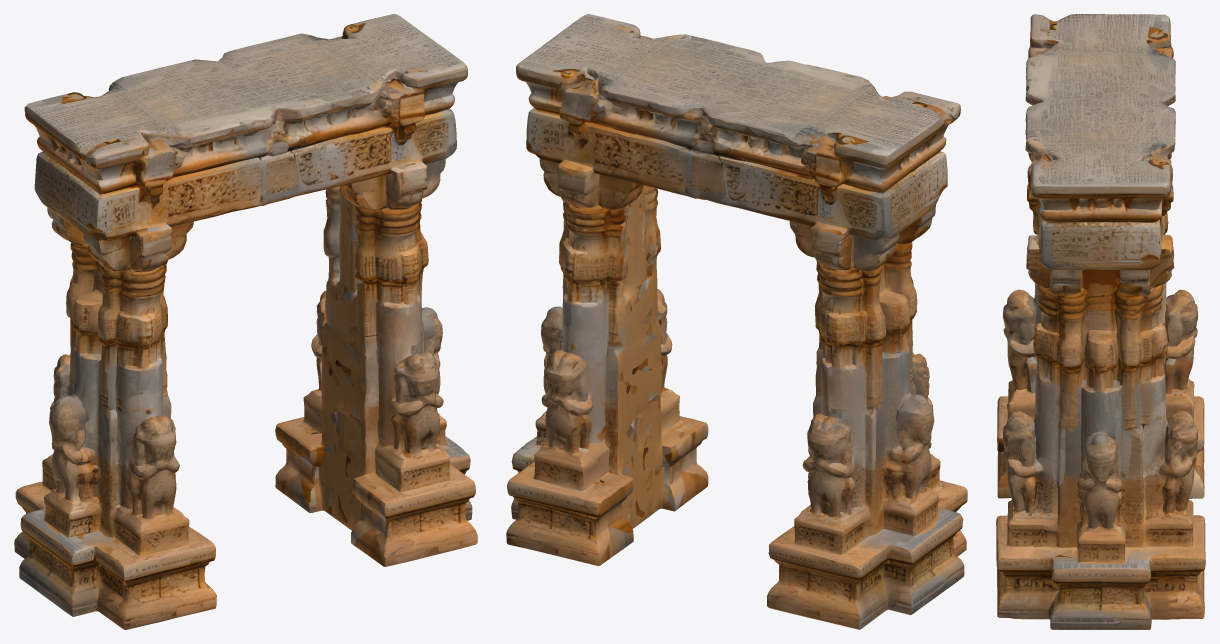
File: massive-ancient-temple-gate.glb
The picture shows the model from 3 angles, left to right: view 1: azimuth 30°, elevation 25°; view 2: azimuth 150°, elevation 25°; view 3: azimuth 270°, elevation 25°; orthographic projection. The views are drawn at different scales.
Visible parts, largest first — view 1: textured_mesh; view 2: textured_mesh; view 3: textured_mesh.
Boxes of the visible parts, box(x1,y1,x2,y2) form: textured_mesh: box(14, 14, 477, 629); textured_mesh: box(506, 14, 967, 629); textured_mesh: box(996, 14, 1205, 629).
Size of the model in its own units: 1.8 by 1.99 by 0.8627.
Materials: 1 (1 with a texture image).
